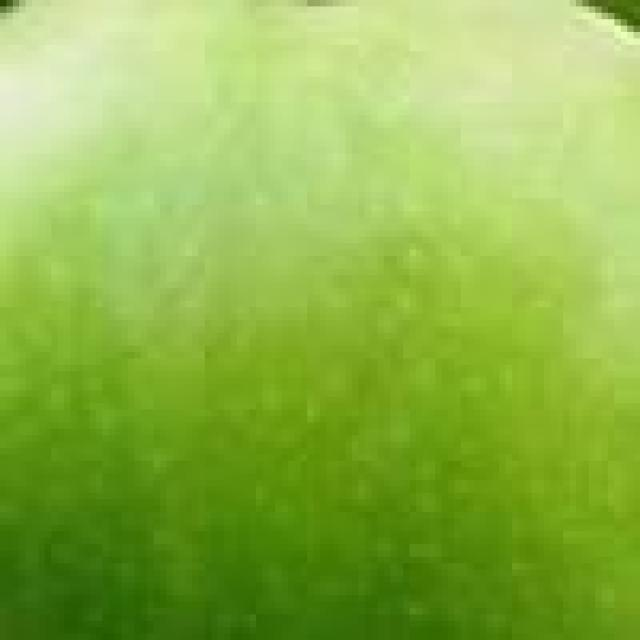50-_ripeness: (26, 32, 621, 605)
